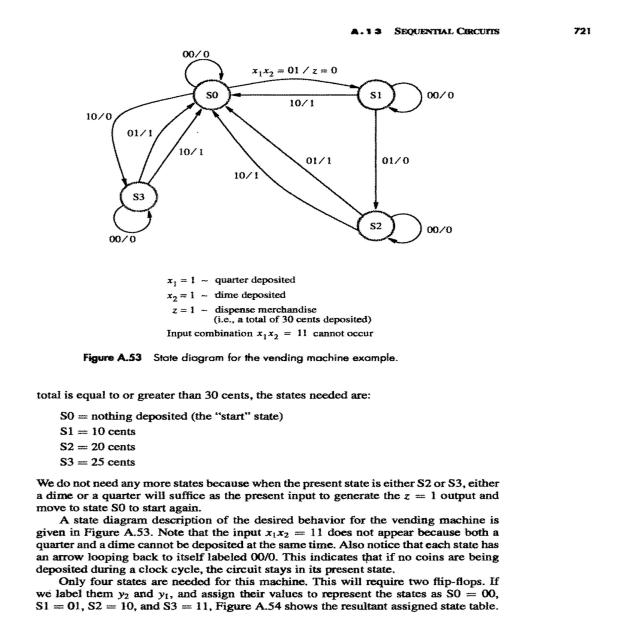diagram: (80, 41, 489, 372)
